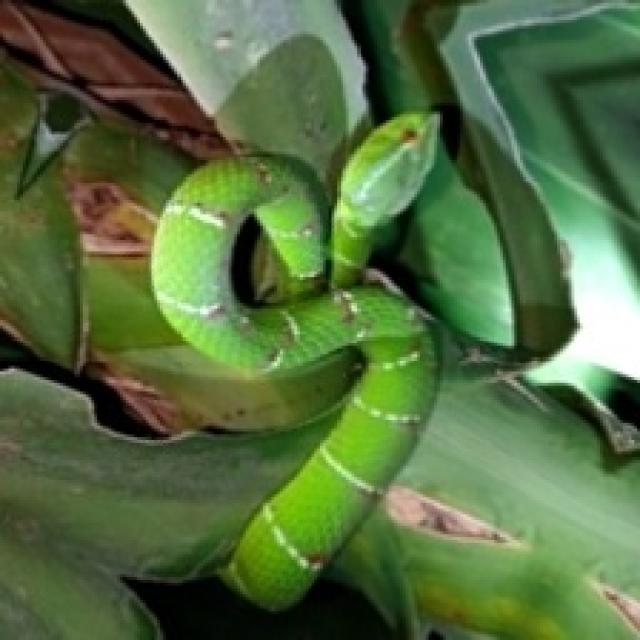north ph temple pitviper: (151, 111, 437, 606)
